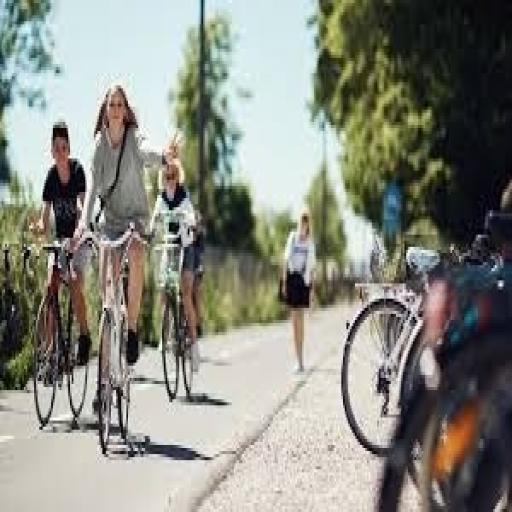cycling: (72, 79, 182, 418), (29, 116, 94, 378), (145, 140, 205, 378)
